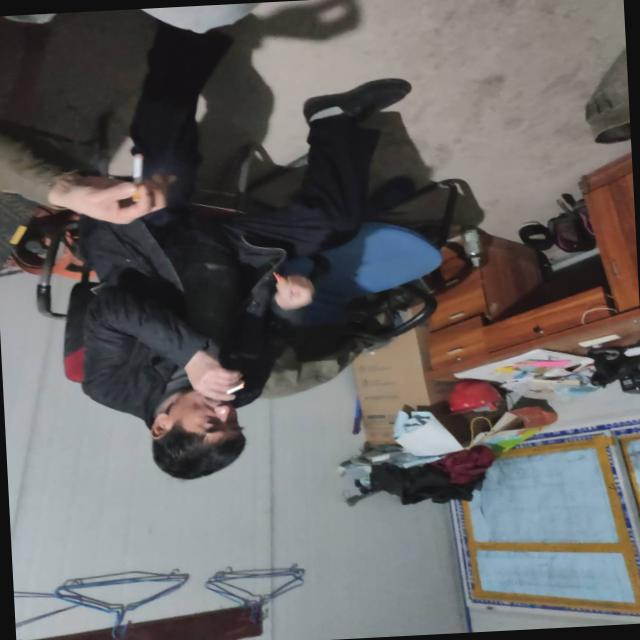smoke: (208, 371, 264, 406)
